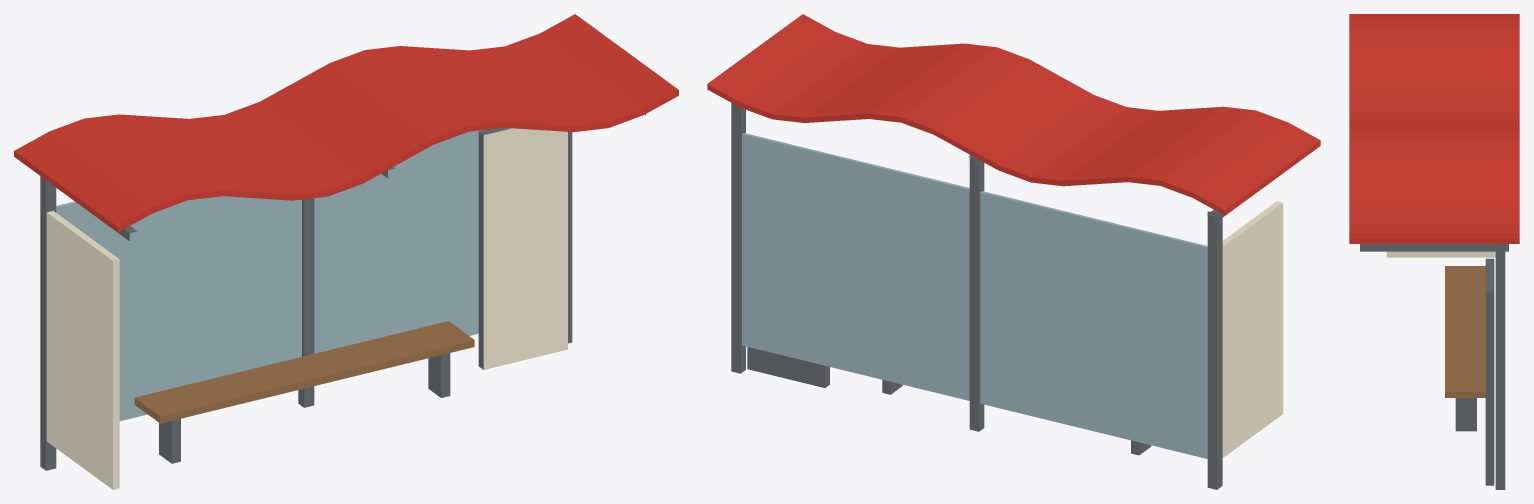
The model's file is sf_bus_shelter.glb.
The picture shows the model from 3 angles, left to right: view 1: azimuth 30°, elevation 25°; view 2: azimuth 150°, elevation 25°; view 3: azimuth 270°, elevation 25°; orthographic projection. The views are drawn at different scales.
Visible parts, largest first — view 1: sf_bus_shelter; view 2: sf_bus_shelter; view 3: sf_bus_shelter.
Boxes of the visible parts, x1,y1,x2,y2 form: sf_bus_shelter: (14, 14, 678, 489); sf_bus_shelter: (707, 14, 1320, 489); sf_bus_shelter: (1349, 14, 1519, 489).
Size of the model in its own units: 5 by 2.8 by 1.6.
Materials: 1 (1 with a texture image).
